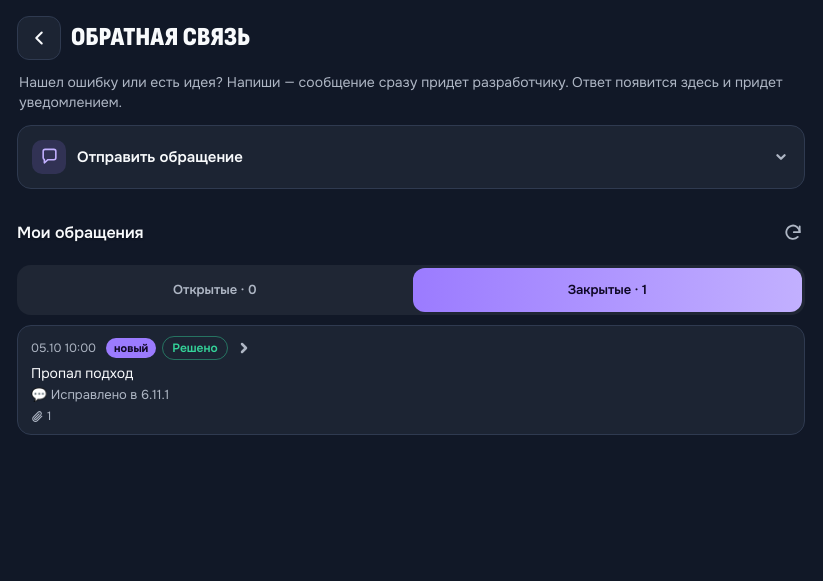
Test case: FeedbackScreen › свои обращения: статус, ответ с меткой «новый», ответ подтверждается прочитанным
Expected: the text "новый" is shown, [106,338,156,358]
Click the button "Пропал подход": [64, 348] box [18,326,804,434]
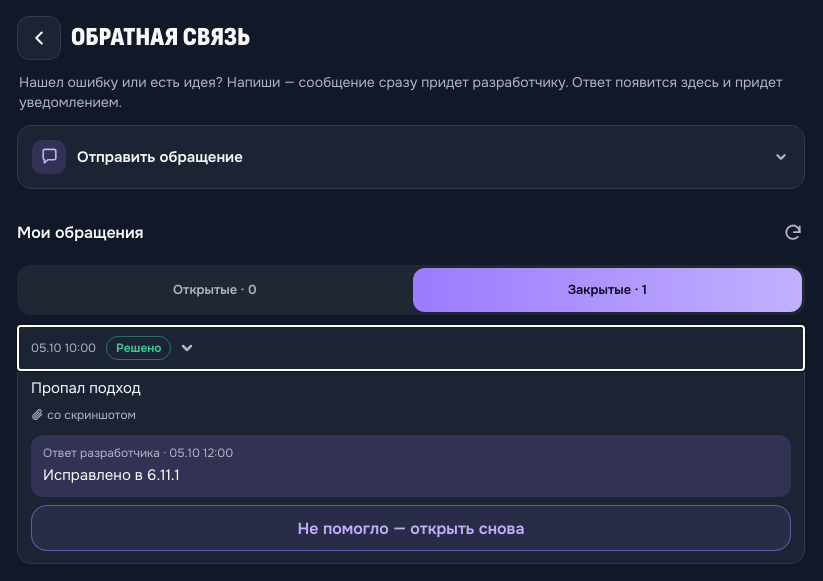
Expected: the text "Исправлено в 6.11.1" is shown, [43,465,180,485]
Now the text "новый" is gone
Now the text "со скриншотом" is shown, box [31,407,136,423]
